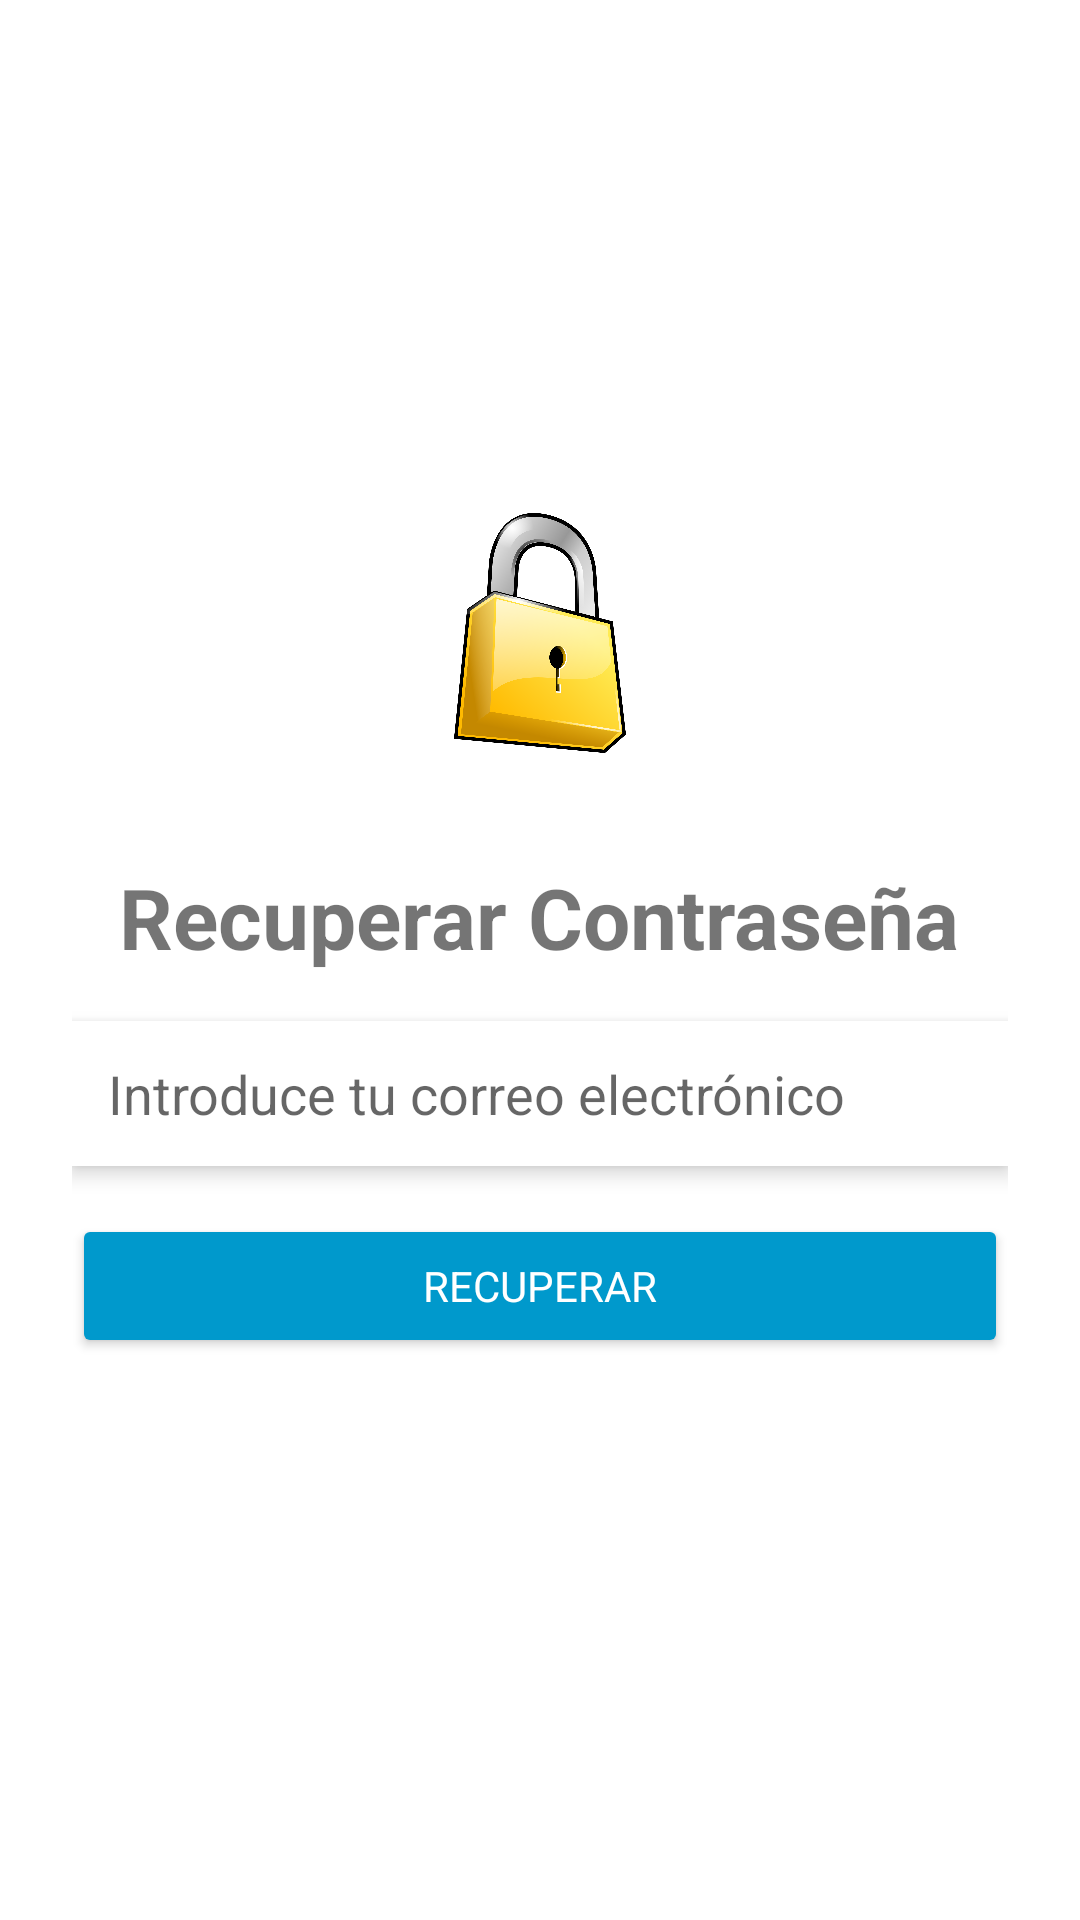

Screen size 1080*1920. Icon name, then its center in pixels as (x=x, y=y):
Icono de candado: (x=540, y=633)
